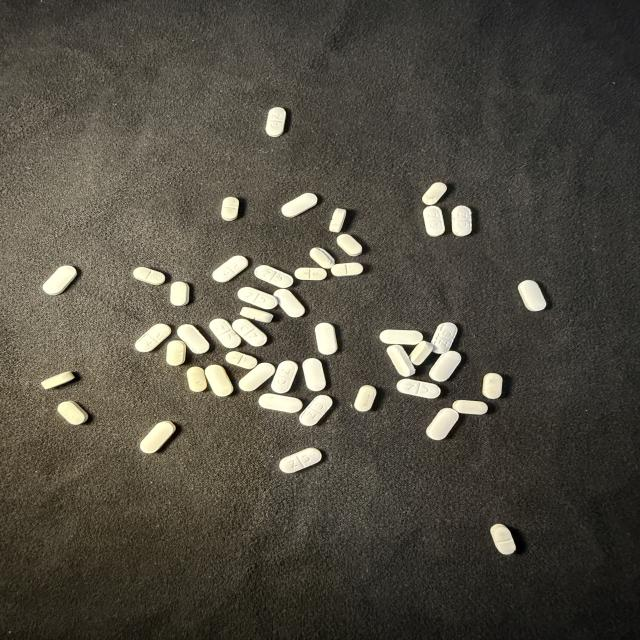pill: (140, 421, 175, 453), (279, 448, 321, 473), (238, 363, 275, 391), (212, 255, 249, 283), (135, 324, 171, 352), (300, 395, 332, 426), (43, 266, 77, 295), (281, 192, 318, 218), (427, 408, 458, 439), (429, 351, 461, 381), (177, 324, 210, 353), (232, 319, 267, 346), (210, 319, 241, 348), (254, 265, 293, 288), (387, 345, 415, 377), (205, 365, 233, 396), (518, 280, 546, 311), (238, 287, 277, 309), (274, 289, 304, 317), (272, 361, 298, 393), (259, 394, 302, 413), (397, 379, 440, 398), (431, 323, 457, 354), (314, 322, 338, 355), (303, 358, 326, 391), (490, 524, 515, 554), (423, 205, 445, 237), (58, 401, 88, 424), (380, 330, 422, 345), (266, 107, 286, 137), (133, 267, 165, 285), (354, 385, 376, 411), (452, 206, 471, 236), (226, 351, 257, 369), (410, 341, 433, 365), (337, 234, 362, 256), (42, 372, 74, 389), (422, 183, 446, 205), (310, 248, 335, 269), (482, 373, 502, 399), (187, 367, 207, 392), (166, 340, 186, 365), (240, 307, 273, 322), (453, 400, 488, 414), (170, 281, 189, 306), (294, 267, 327, 281), (221, 197, 239, 221), (331, 263, 363, 276), (330, 208, 346, 232)
